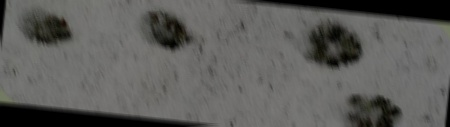rabbit: (285, 14, 374, 86), (122, 2, 208, 66), (328, 84, 418, 127)
